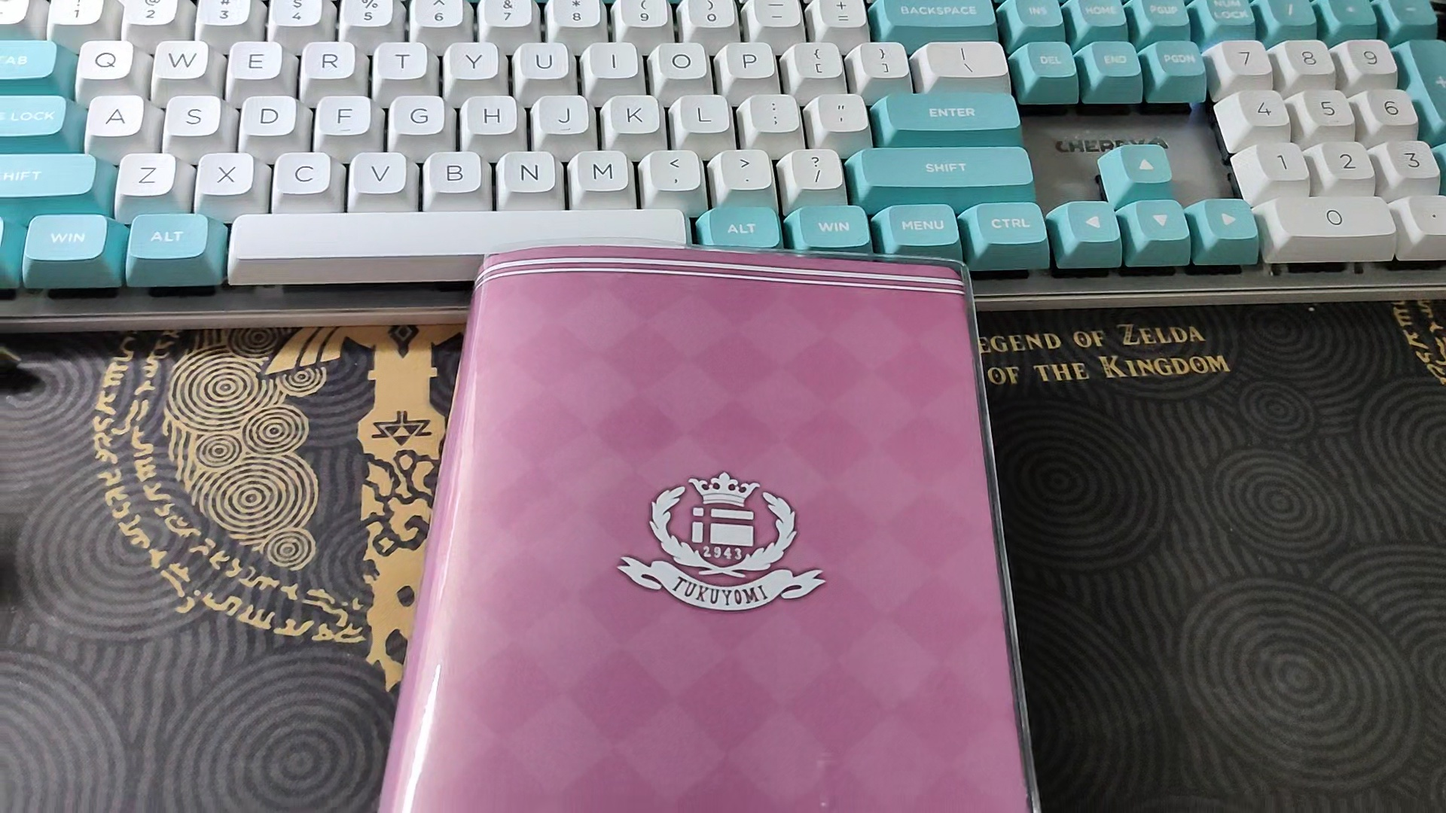Photo_book: (364, 240, 1042, 813)
